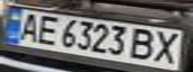2: (90, 20, 112, 55)
3: (106, 23, 133, 57), (72, 20, 93, 52)
6: (54, 17, 78, 50)
A: (12, 11, 45, 43)
B: (127, 26, 160, 62)
E: (30, 13, 63, 46)
X: (148, 29, 187, 65)
